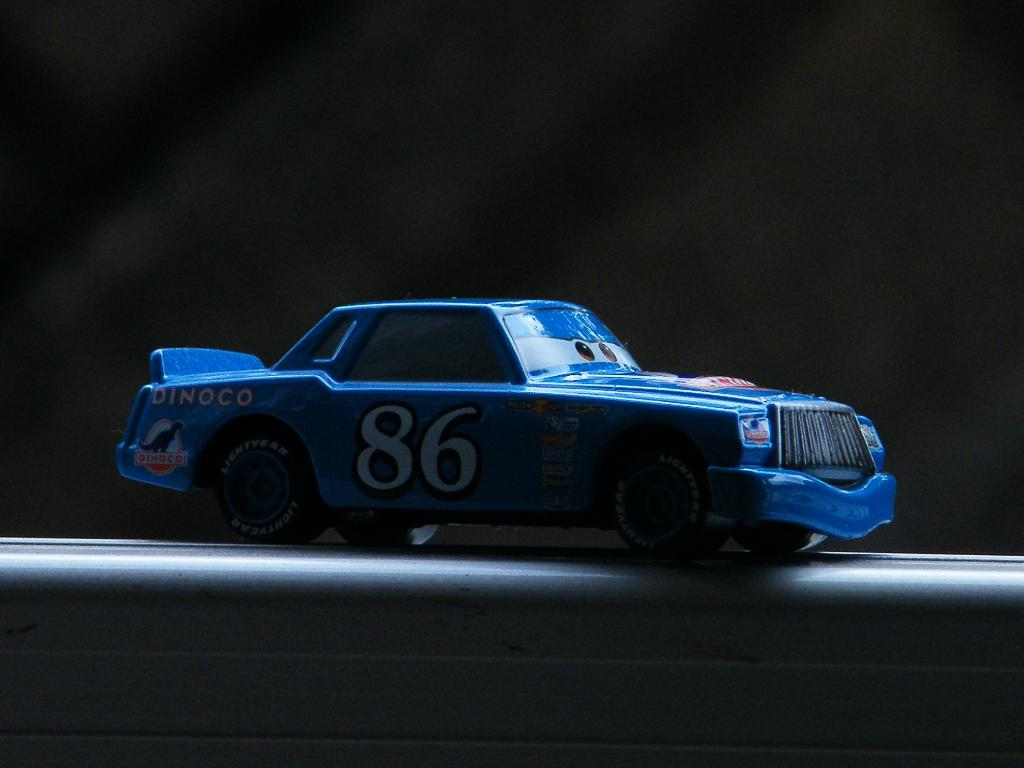Car: (112, 295, 906, 561)
